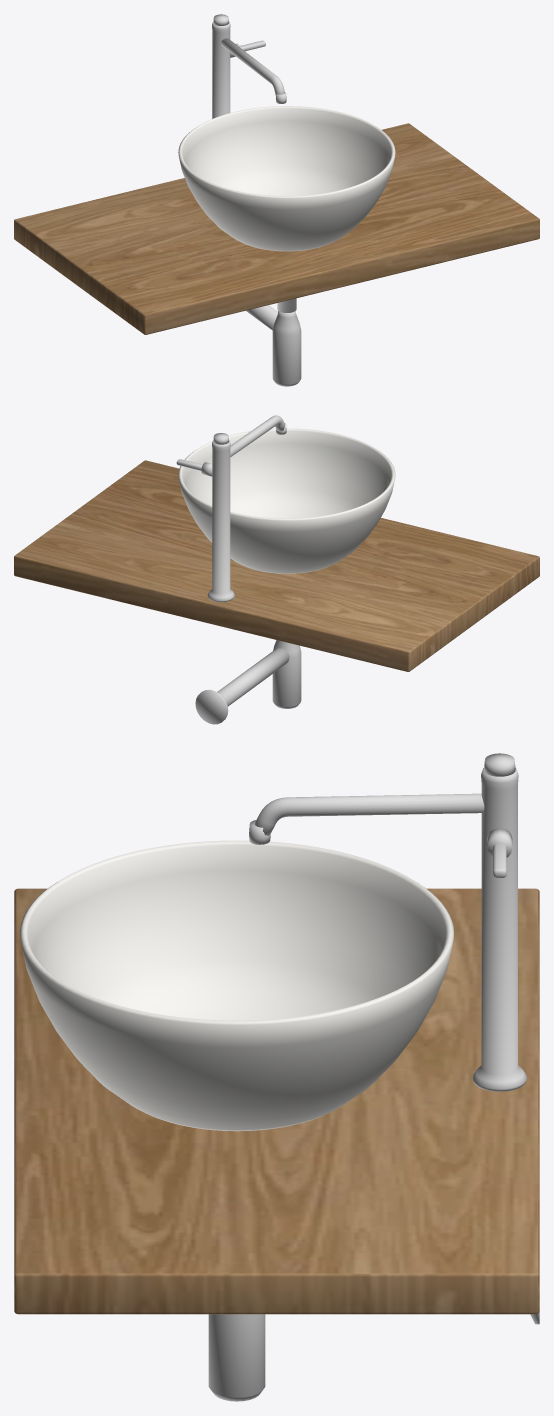
File: lavabo_sobre_encimera_redondo_80.glb
The picture shows the model from 3 angles, top to bottom: view 1: azimuth 30°, elevation 25°; view 2: azimuth 150°, elevation 25°; view 3: azimuth 270°, elevation 25°; orthographic projection. The views are drawn at different scales.
Parts seen in each view (by area): view 1: lavabo_sobre_encimera_redondo_80; view 2: lavabo_sobre_encimera_redondo_80; view 3: lavabo_sobre_encimera_redondo_80.
Part boxes in pixels (x1,y1,x2,y2): lavabo_sobre_encimera_redondo_80: [14, 14, 539, 386]; lavabo_sobre_encimera_redondo_80: [14, 415, 539, 724]; lavabo_sobre_encimera_redondo_80: [14, 753, 539, 1401].
Bounding box in the file's own units: 0.8 × 0.612 × 0.46.
Materials: 3 (1 with a texture image).
